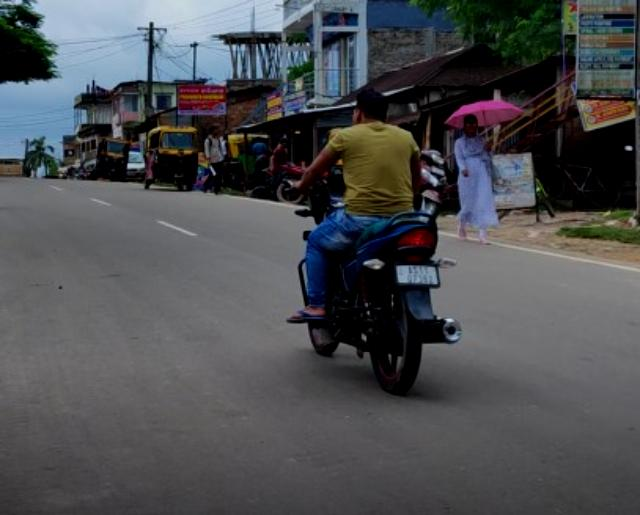licensePlate: (395, 264, 445, 286)
motorcycle: (281, 82, 461, 402)
withoutHelmet: (348, 86, 392, 126)
